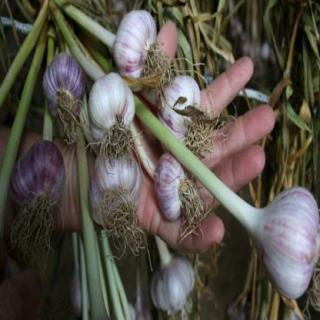Bawang Putih: (257, 186, 320, 300), (88, 149, 143, 228), (113, 10, 158, 93), (89, 73, 136, 142)
